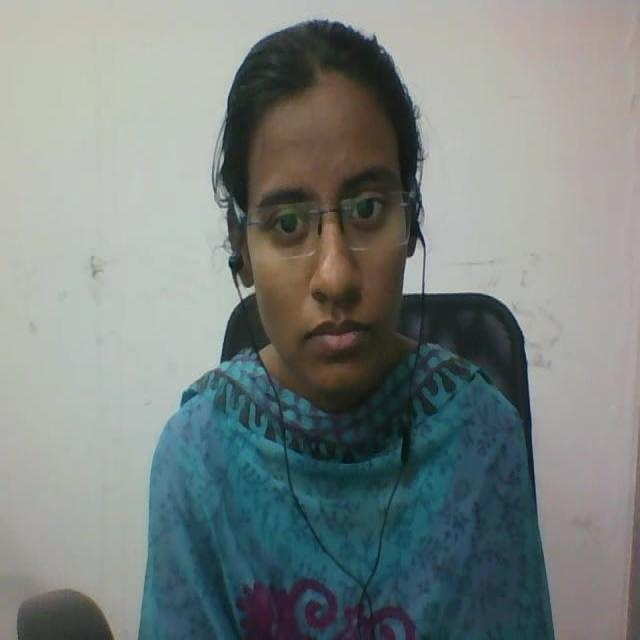Engaged: (191, 0, 448, 428)
